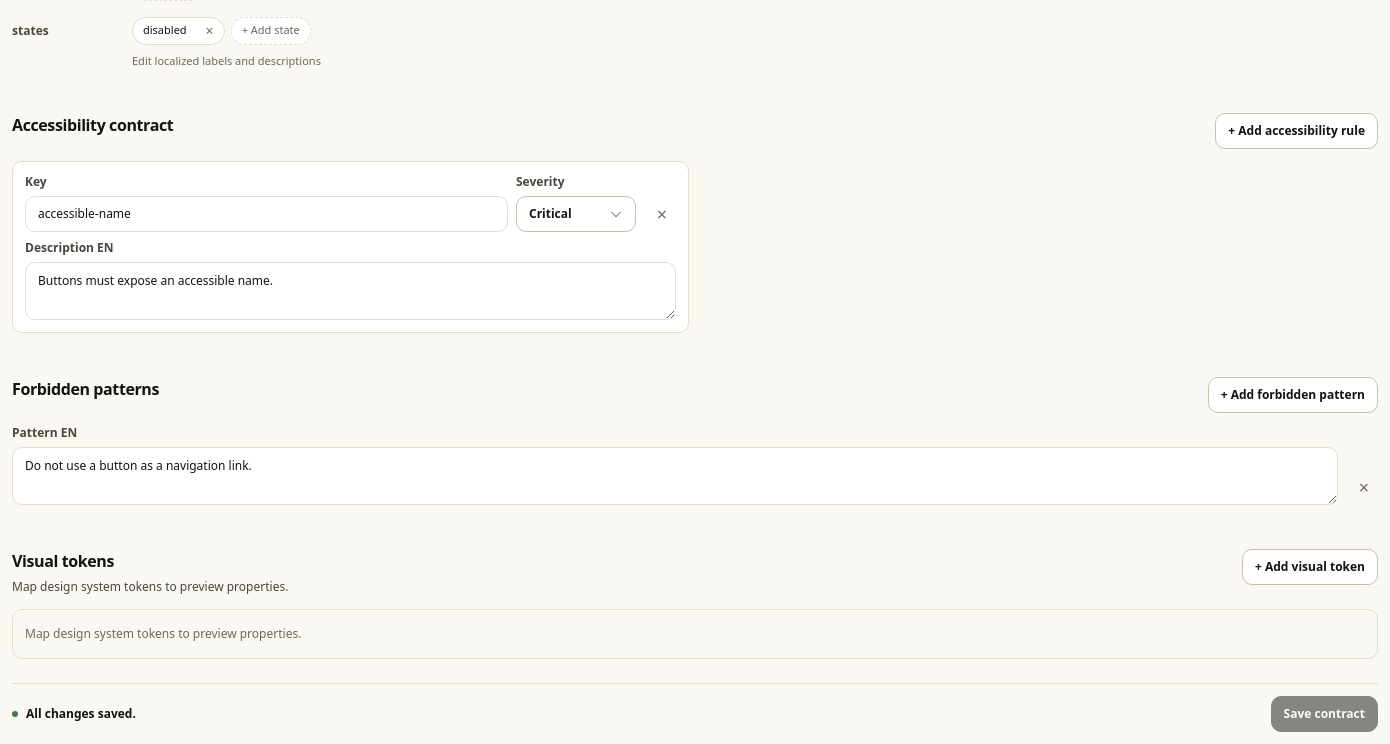
Test case: ComponentContractEditor › adds a guided visual token binding
The width and height of the screenshot is (1390, 744).
(page scrolled)
Click the button "+ Add visual token".
click(1310, 567)  # box [1242, 549, 1378, 585]
(page scrolled)
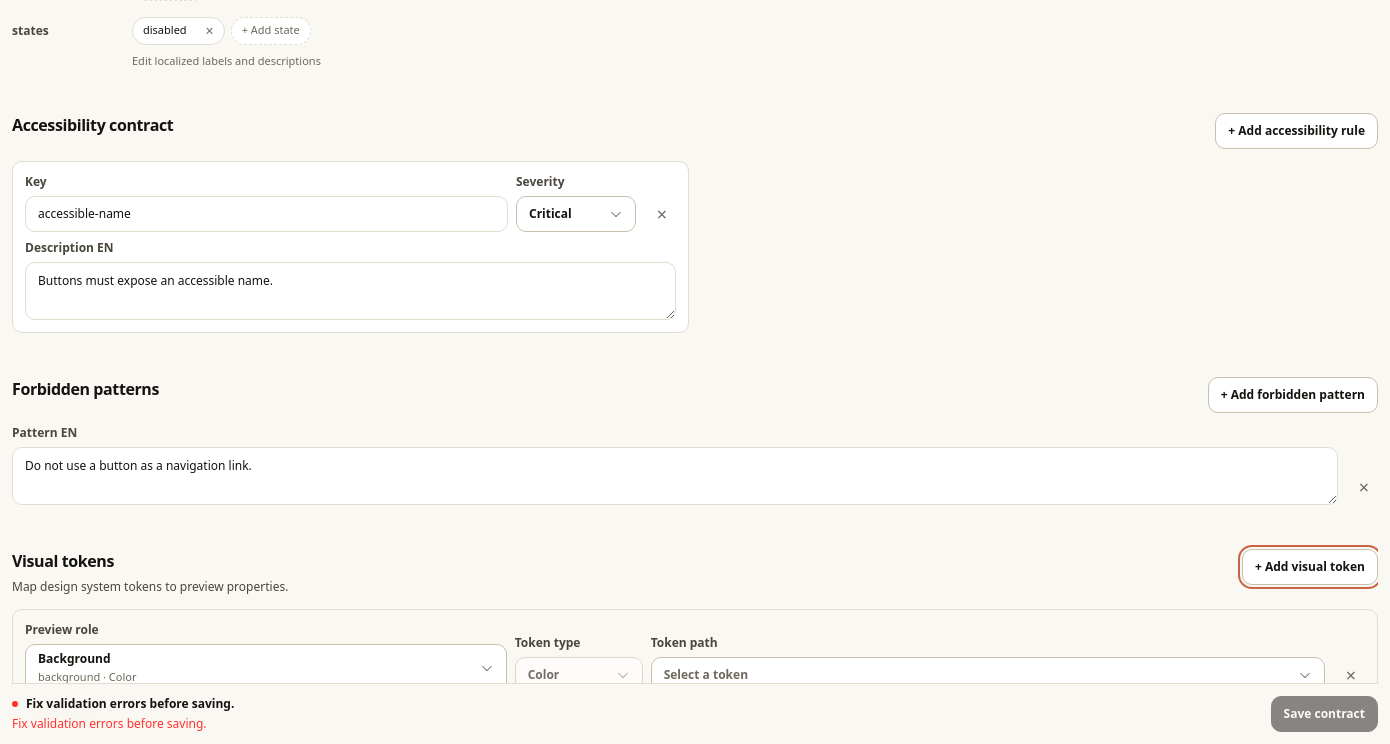
Now the dropdown named "Preview role" shows "Background", box [25, 644, 507, 692]
Now the dropdown named "Token type" reads "Color", box [515, 656, 643, 692]
Now the dropdown named "Token type" is disabled, box [515, 656, 643, 692]
Click the dropdown named "Token path".
click(706, 674)  # box [651, 656, 1325, 692]
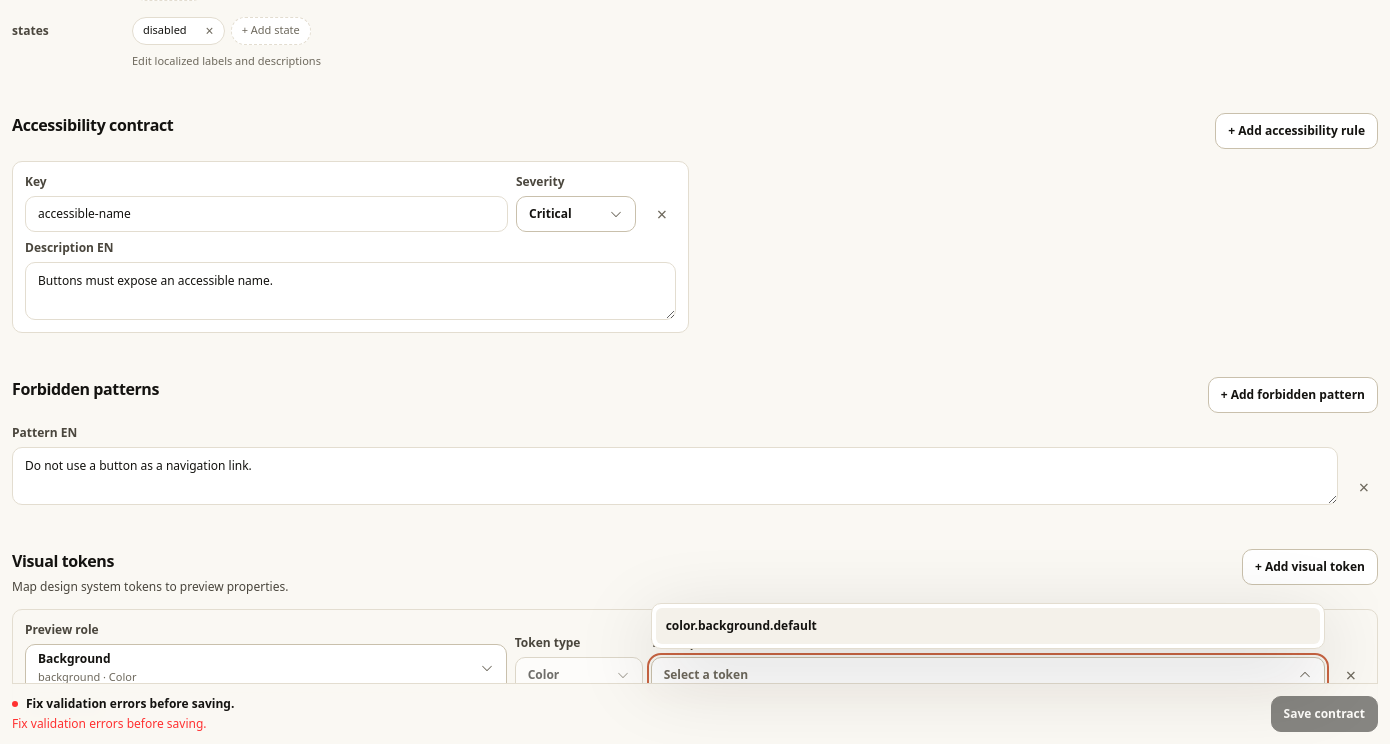
Now the option "color.background.default" is shown, box [656, 608, 1320, 644]
